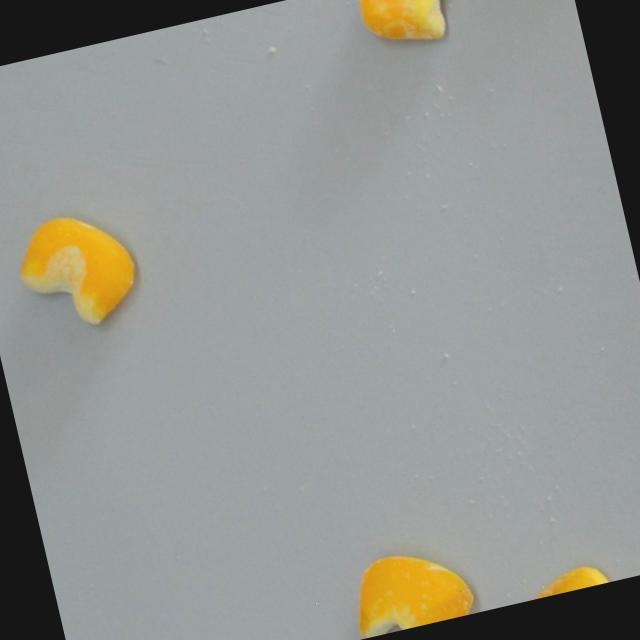no_canjicado: (6, 201, 146, 339)
pelicula: (343, 539, 477, 639), (356, 0, 476, 55), (513, 557, 616, 603)
